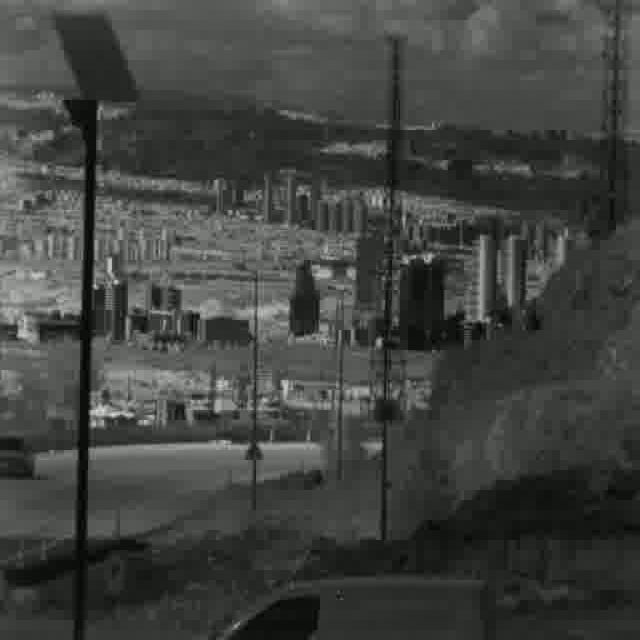Car: (0, 432, 38, 478)
